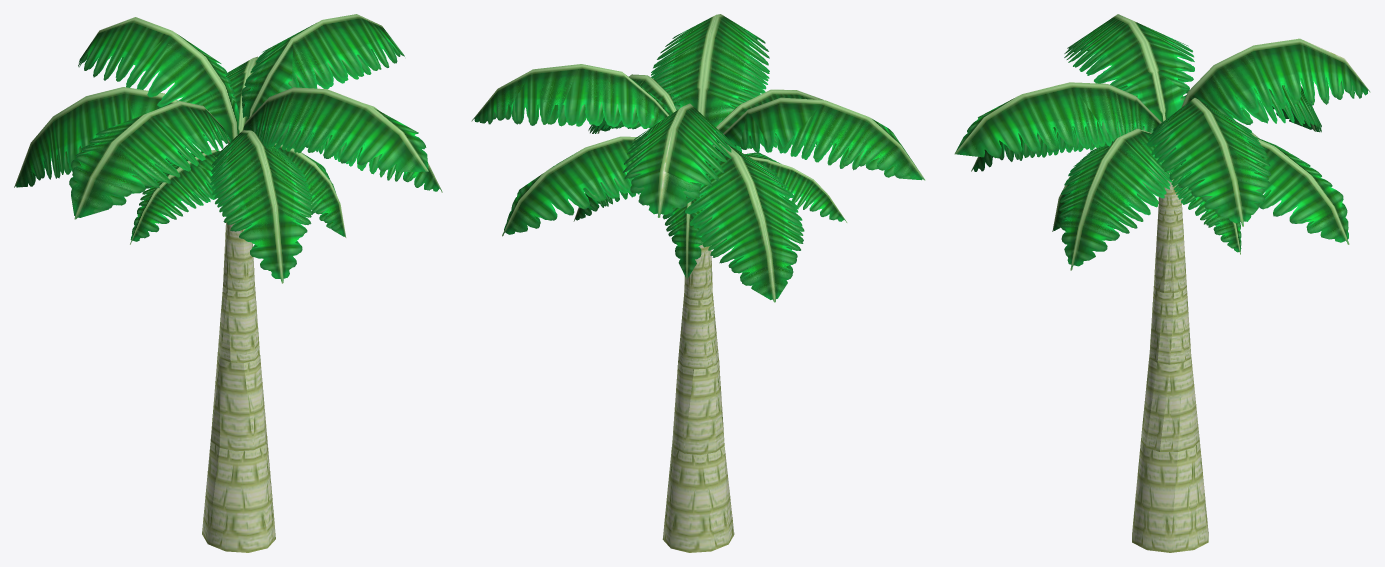
Rendered from Palm.obj.
The picture shows the model from 3 angles, left to right: view 1: azimuth 30°, elevation 25°; view 2: azimuth 150°, elevation 25°; view 3: azimuth 270°, elevation 25°; orthographic projection. The views are drawn at different scales.
Size of the model in its own units: 78.07 by 90.28 by 70.89.
1 material, 1 textured.
